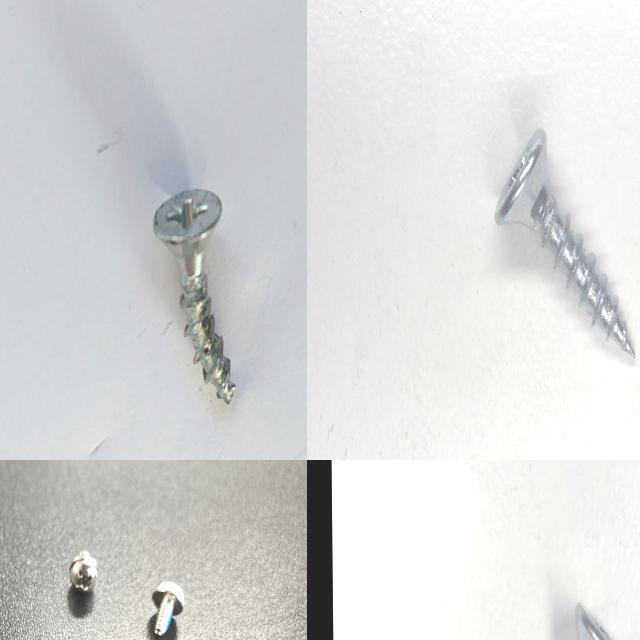Screw: (494, 127, 635, 357), (153, 188, 235, 404), (150, 578, 186, 640), (67, 548, 101, 602)
